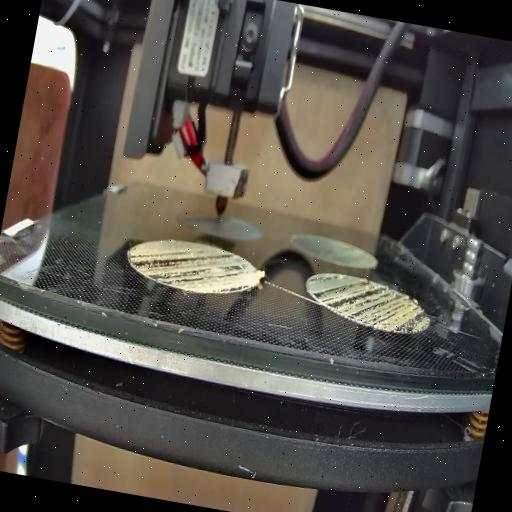under_extrusion: (302, 267, 432, 334), (126, 234, 252, 296)
